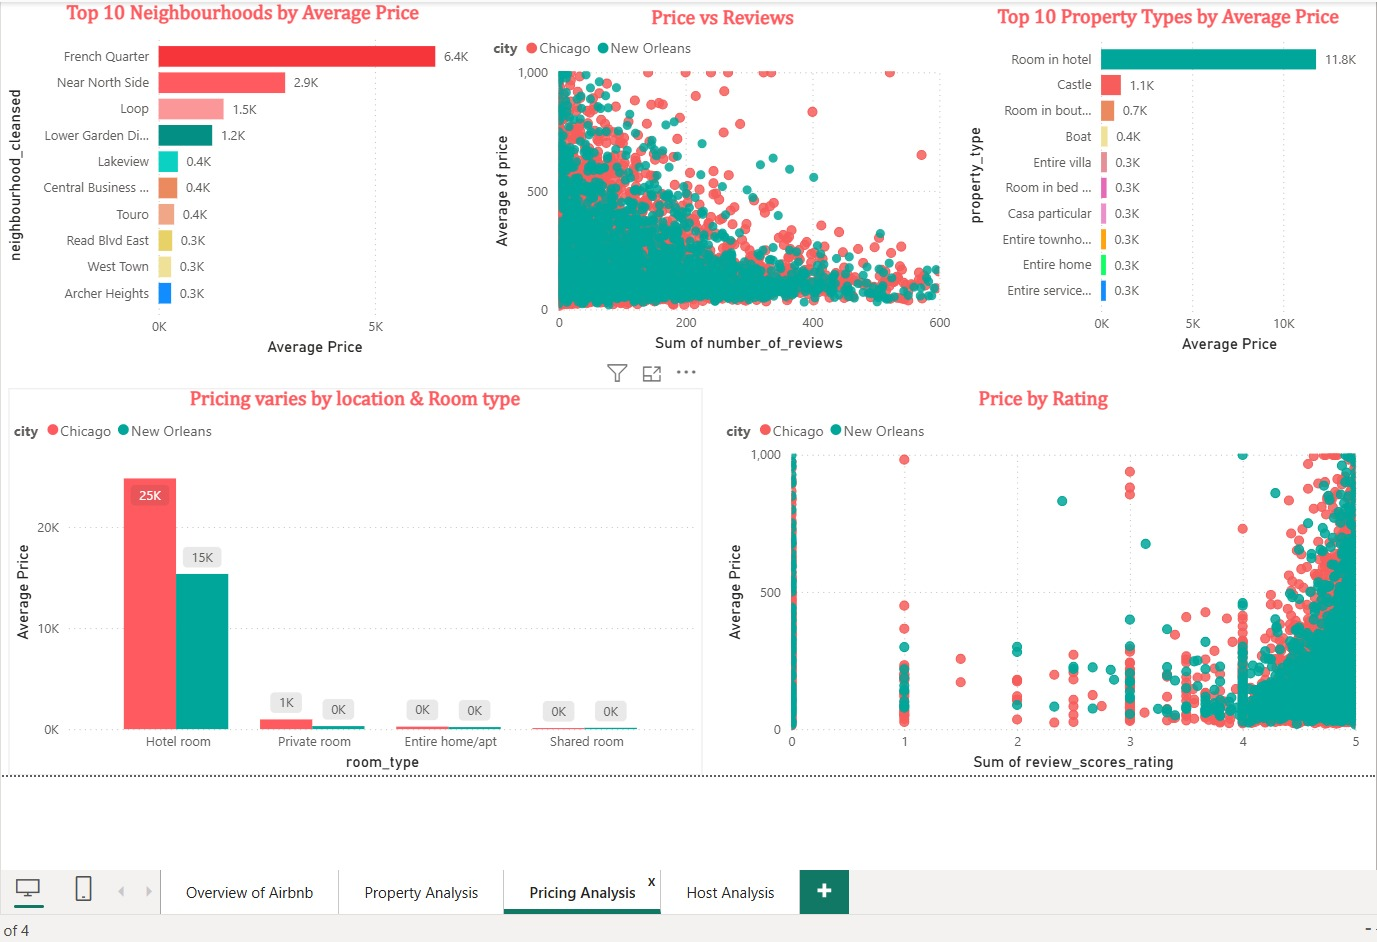

The dashboard page shown, as its layout file describes it:
{"tool":"powerbi","page":{"name":"Pricing Analysis","canvas":[1280,720],"ordinal":2},"visuals":[{"type":"clusteredBarChart","title":"Top 10 Neighbourhoods by Average Price","fields":{"Category":["Airbnb_data.neighbourhood_cleansed"],"Y":["Airbnb_data.Average Price"]},"box":[0,0,449.9,333.7],"z":0},{"type":"clusteredColumnChart","title":"Pricing varies by location & Room type","fields":{"Series":["Airbnb_data.city"],"Category":["Airbnb_data.room_type"],"Y":["Airbnb_data.Average Price"]},"box":[7.5,359.3,644.7,360.8],"z":1000},{"type":"clusteredBarChart","title":"Top 10 Property Types by Average Price","fields":{"Category":["Airbnb_data.property_type"],"Y":["Airbnb_data.Average Price"]},"box":[889.3,0,391,333.7],"z":2000},{"type":"scatterChart","title":"Price vs Reviews","fields":{"Y":["Avg(Airbnb_data.price)"],"Series":["Airbnb_data.city"],"Category":["Airbnb_data.id"],"X":["Sum(Airbnb_data.number_of_reviews)"]},"box":[449.9,1.5,440.9,332.2],"z":3000},{"type":"scatterChart","title":"Price by Rating","fields":{"Series":["Airbnb_data.city"],"Y":["Airbnb_data.Average Price"],"Category":["Airbnb_data.id"],"X":["Sum(Airbnb_data.review_scores_rating)"]},"box":[670.3,359.3,599.4,360.8],"z":4000}]}

Visuals, with their boxes on the page's 1280x720 design canvas (x1, y1, x2, y2). These are canvas units, not pixel positions in the 1377x942 screenshot, which may show the page scaled, cropped or inside an application window:
"Top 10 Neighbourhoods by Average Price" clusteredBarChart: [0,0,450,334]
"Pricing varies by location & Room type" clusteredColumnChart: [8,359,652,720]
"Top 10 Property Types by Average Price" clusteredBarChart: [889,0,1280,334]
"Price vs Reviews" scatterChart: [450,2,891,334]
"Price by Rating" scatterChart: [670,359,1270,720]
